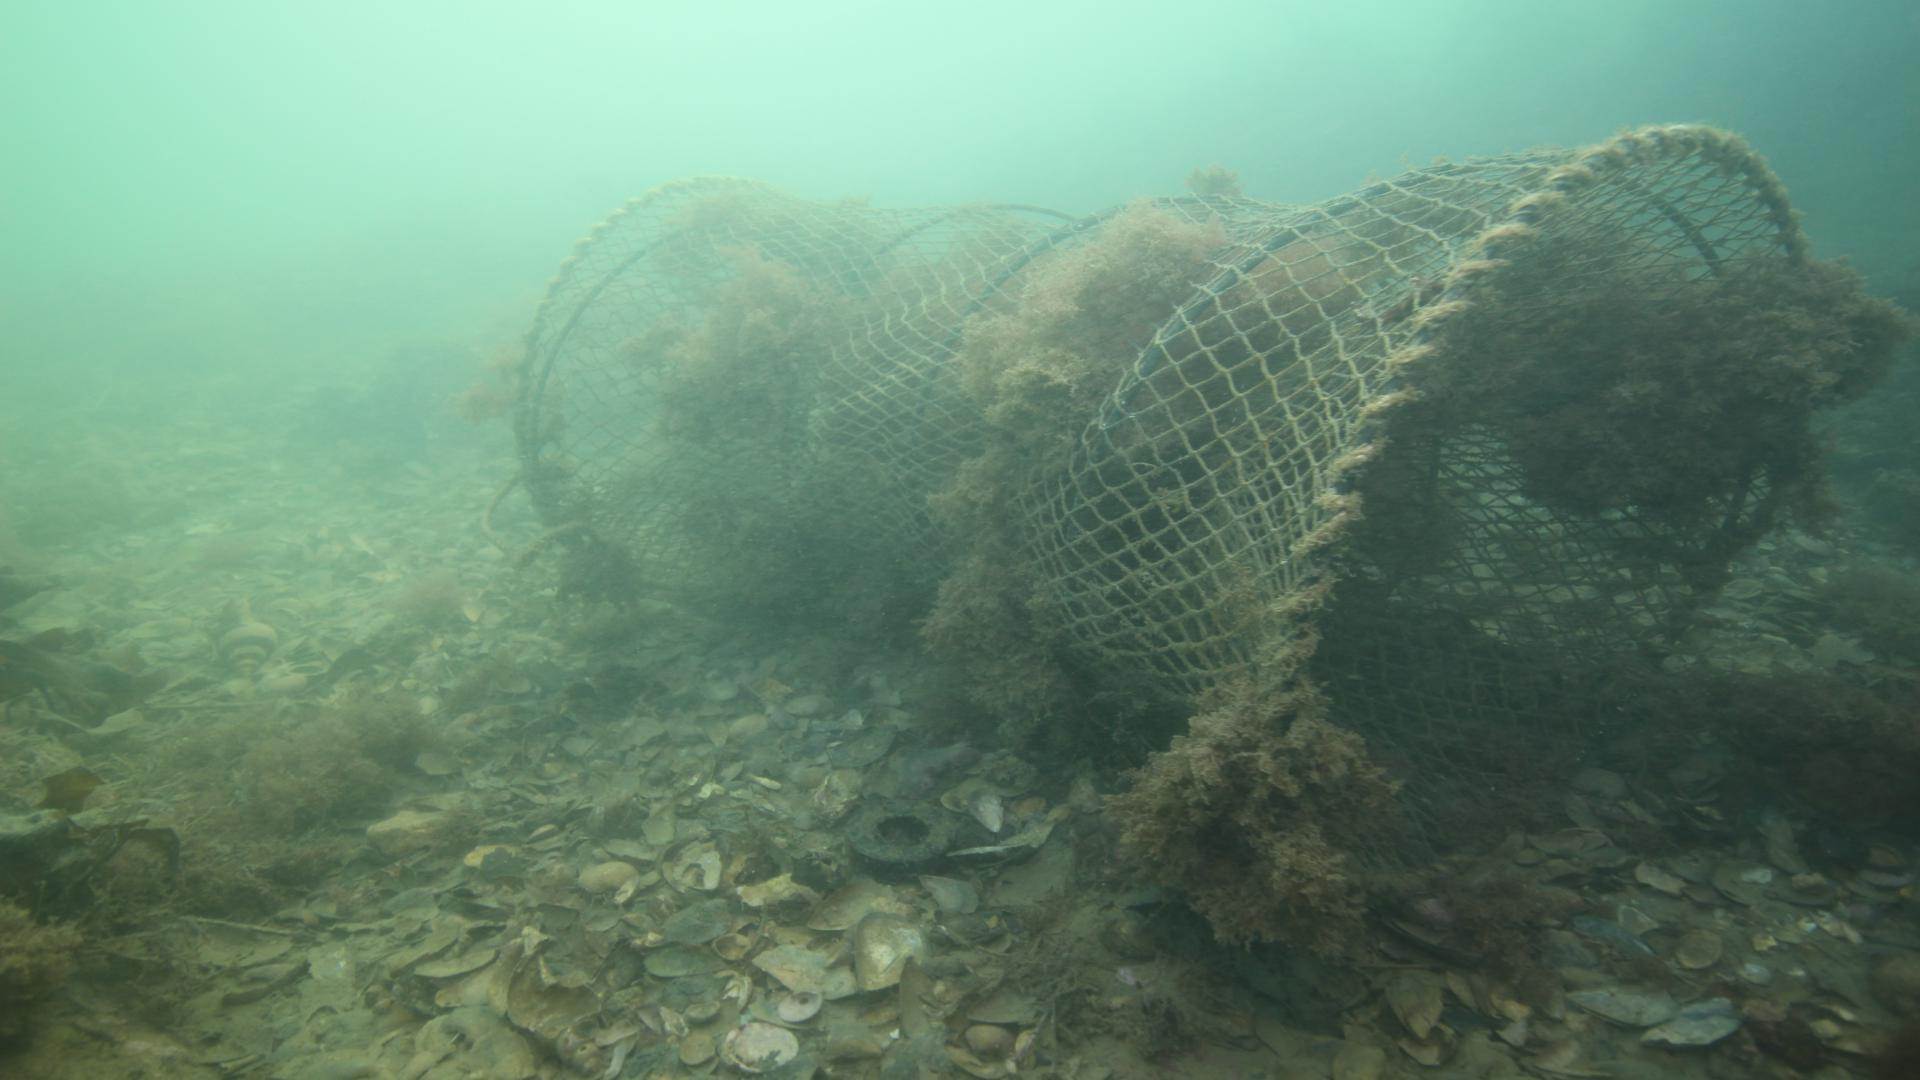spring fish trap: (512, 121, 1808, 887)
